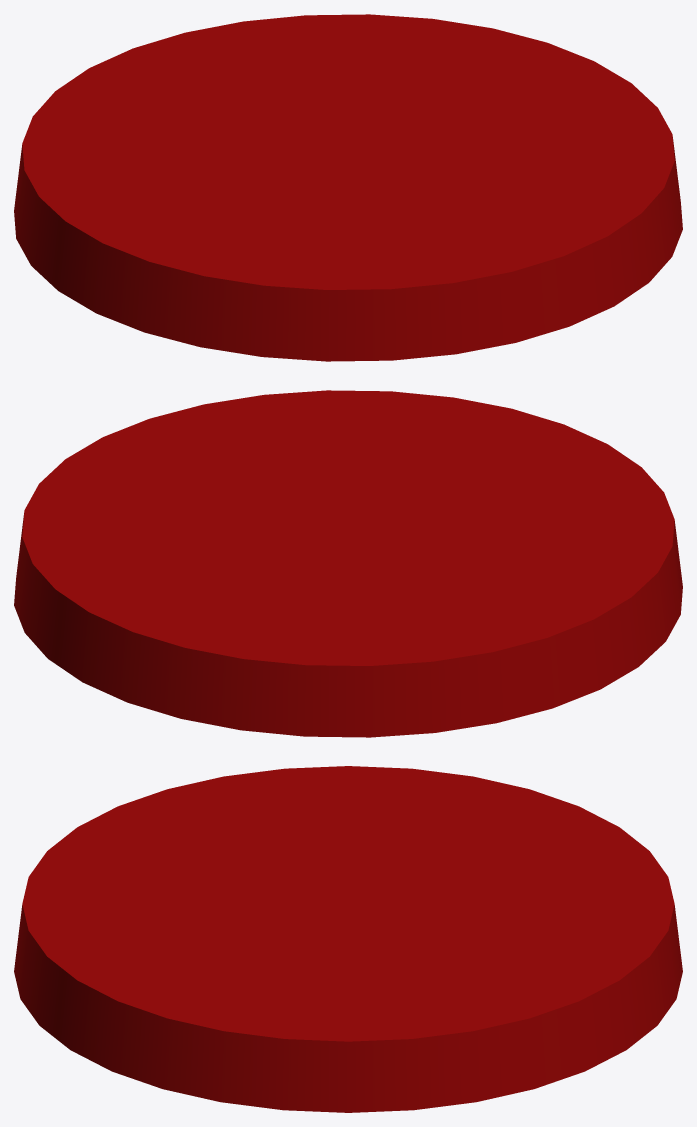
Rendered from button.glb.
3 views of the same model, one above another, from view 1: azimuth 30°, elevation 25°; view 2: azimuth 150°, elevation 25°; view 3: azimuth 270°, elevation 25° (orthographic).
Parts seen in each view (by area): view 1: Botão; view 2: Botão; view 3: Botão.
Boxes of the visible parts, left/top/right/bottom form: Botão: left=14, top=14, right=682, bottom=361; Botão: left=14, top=390, right=682, bottom=737; Botão: left=14, top=766, right=682, bottom=1112.
Size of the model in its own units: 1.79 by 0.2 by 1.79.
